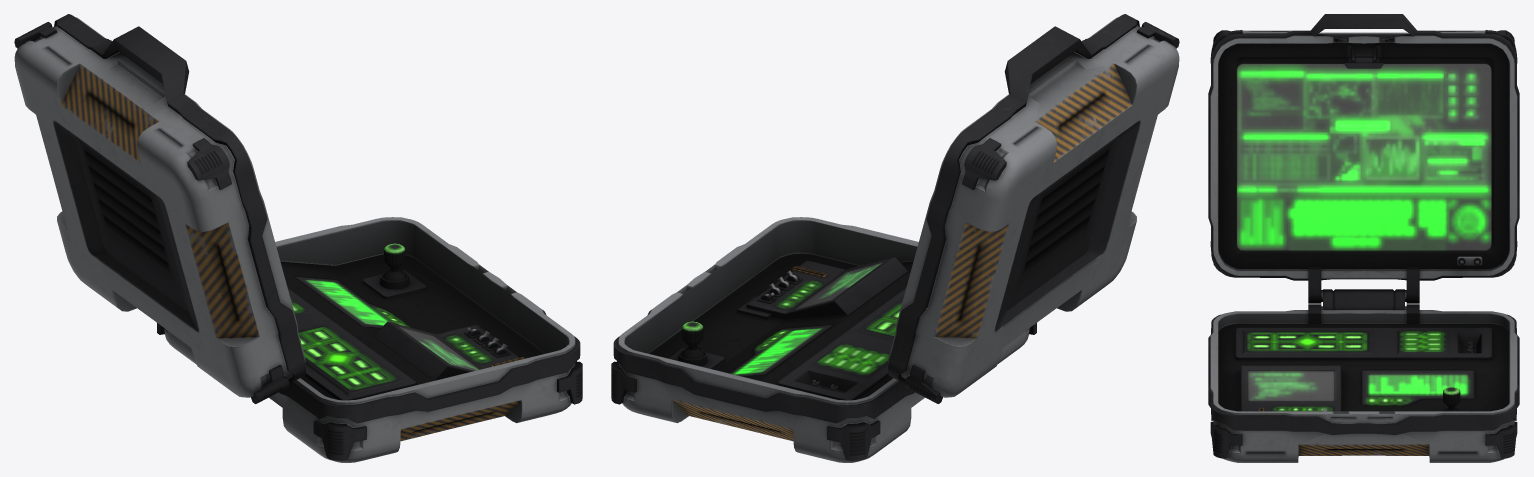
The model's file is Laptop.glb.
The picture shows the model from 3 angles, left to right: view 1: azimuth 30°, elevation 25°; view 2: azimuth 150°, elevation 25°; view 3: azimuth 270°, elevation 25°; orthographic projection. The views are drawn at different scales.
Parts seen in each view (by area): view 1: Laptop_Top, Laptop_Base; view 2: Laptop_Top, Laptop_Base; view 3: Laptop_Top, Laptop_Base.
Part boxes in pixels (left/top/right/bottom): Laptop_Top: left=14, top=14, right=305, bottom=403; Laptop_Base: left=157, top=217, right=582, bottom=462; Laptop_Top: left=888, top=14, right=1179, bottom=403; Laptop_Base: left=611, top=217, right=1036, bottom=462; Laptop_Top: left=1208, top=14, right=1519, bottom=303; Laptop_Base: left=1208, top=289, right=1519, bottom=462.
Size of the model in its own units: 0.5188 by 0.4691 by 0.4199.
Materials: 1 (1 with a texture image).
